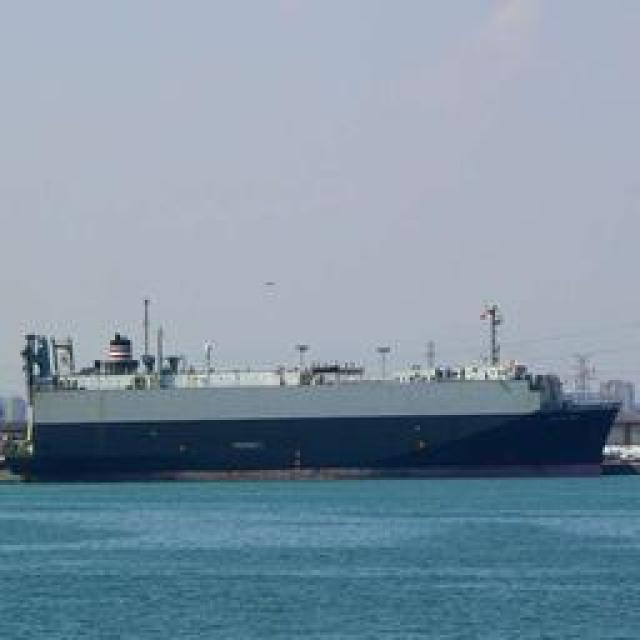CIV_Ship: (1, 298, 621, 476)
